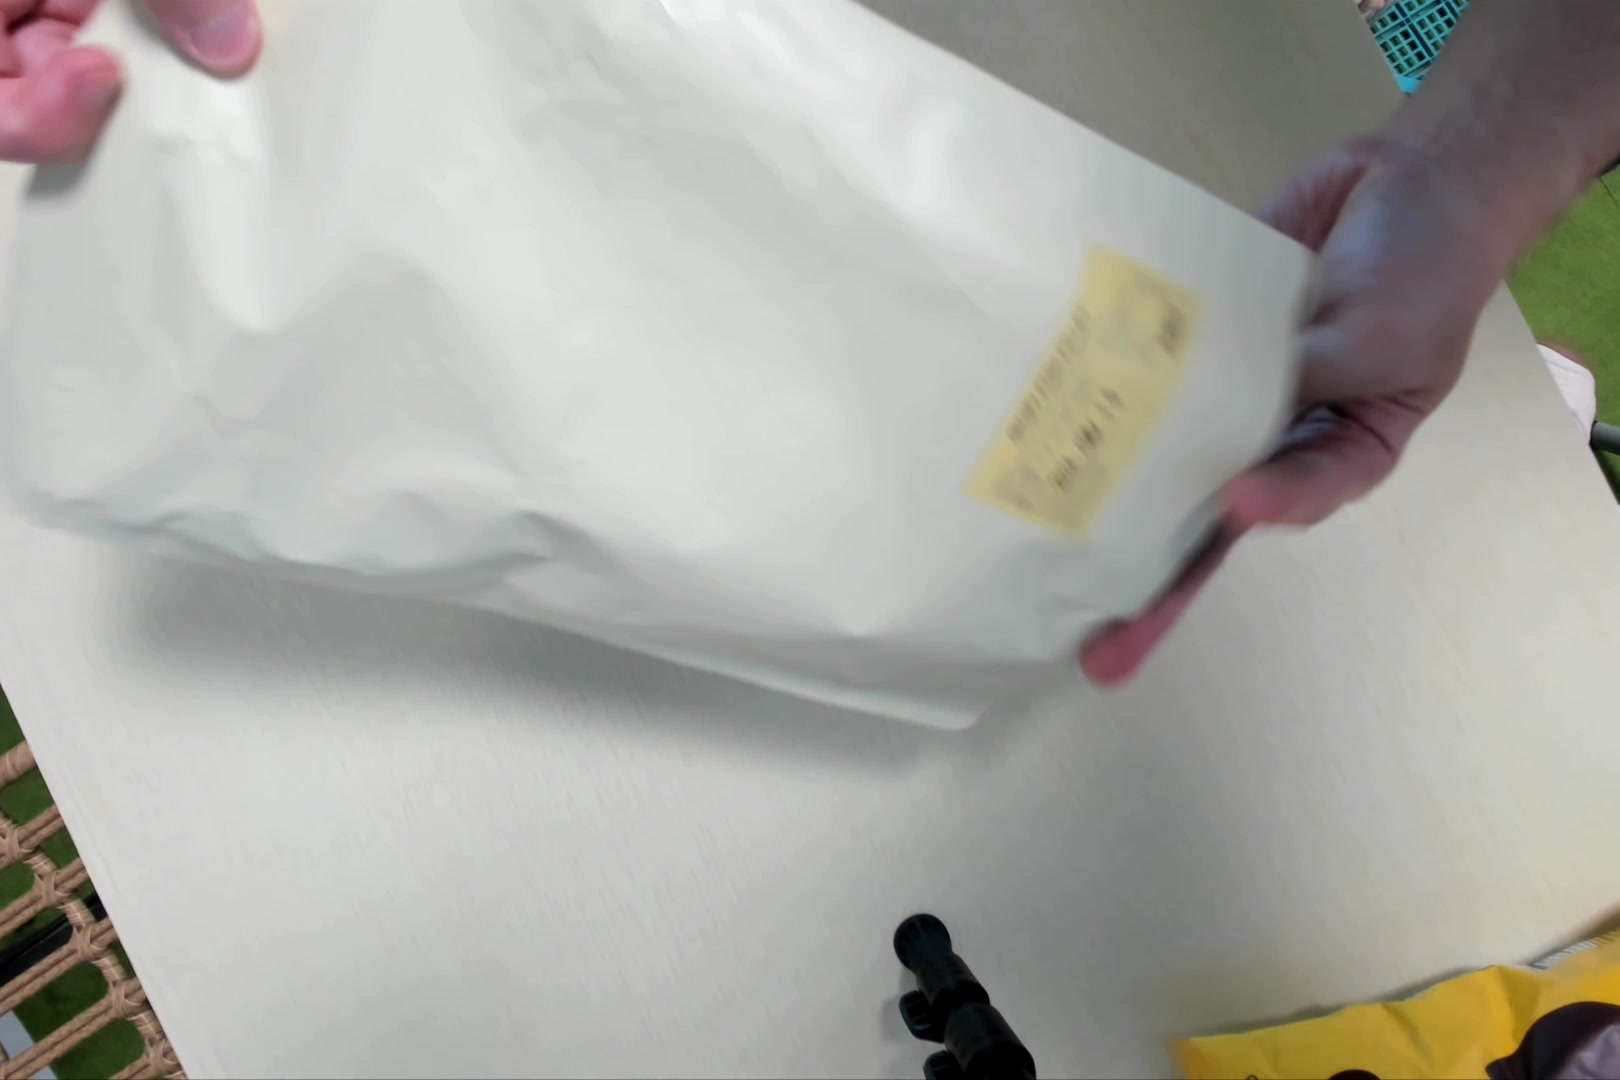PotatoChipsKeropok_100-199g_NonHalal_NonHealthy: (24, 1, 1307, 761)
